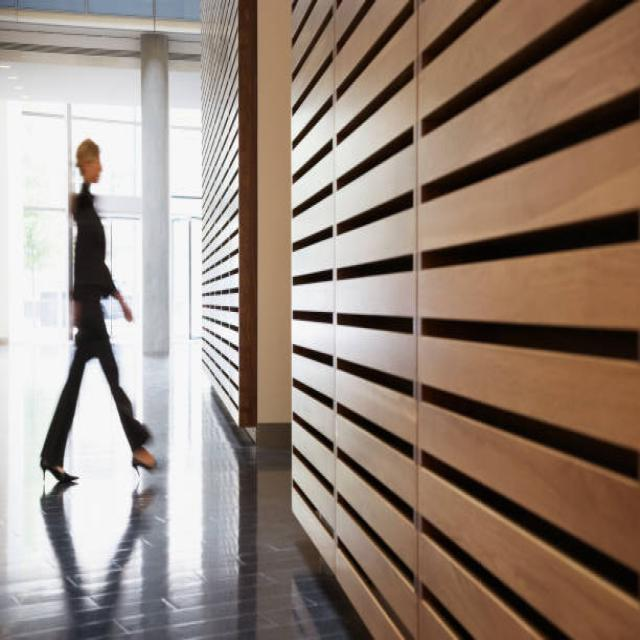stand: (50, 128, 134, 470)
